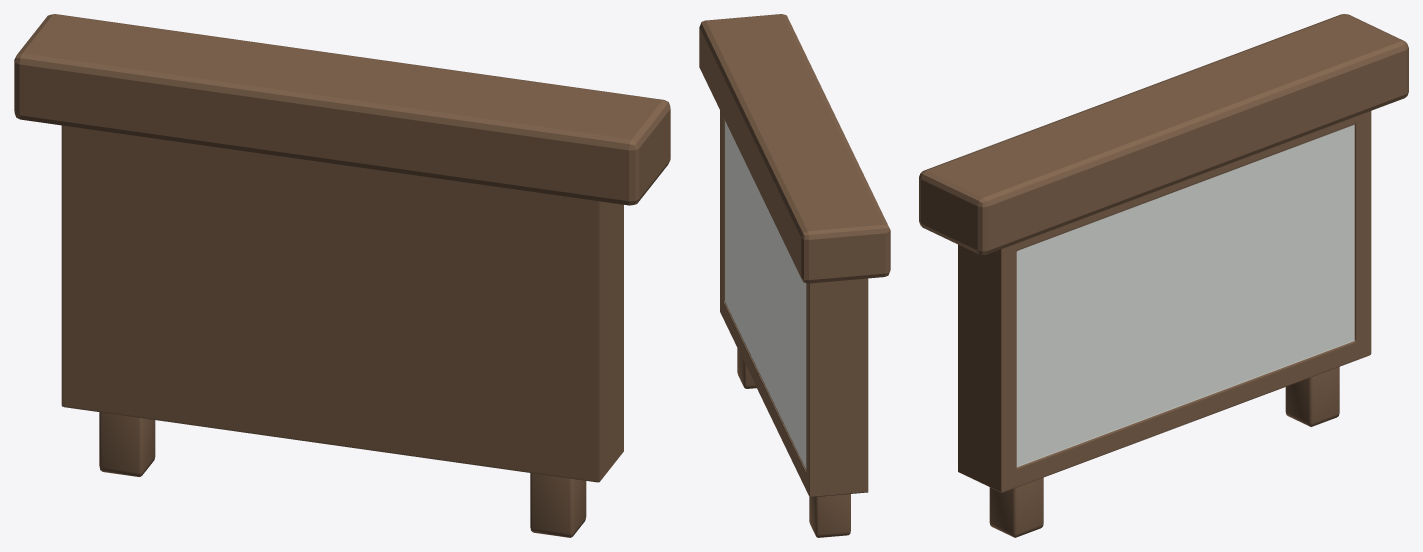
File: SignPost.gltf
The picture shows the model from 3 angles, left to right: view 1: azimuth 30°, elevation 25°; view 2: azimuth 150°, elevation 25°; view 3: azimuth 270°, elevation 25°; orthographic projection. The views are drawn at different scales.
Visible parts, largest first — view 1: SignPost; view 2: SignPost; view 3: SignPost.
Boxes of the visible parts, <box> form: SignPost: <box>14,14,670,537</box>; SignPost: <box>699,14,890,537</box>; SignPost: <box>919,14,1408,537</box>.
Bounding box in the file's own units: 2.39 × 2.15 × 2.61.
